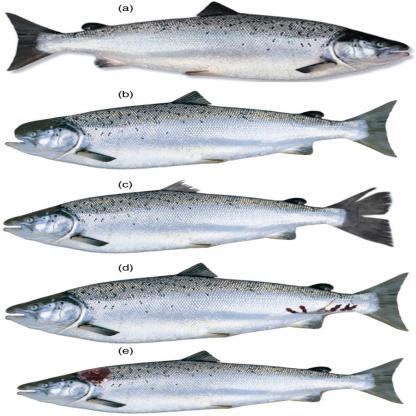fish: (2, 1, 410, 82), (4, 262, 410, 343), (4, 90, 398, 170), (0, 181, 390, 254), (15, 352, 405, 412)
